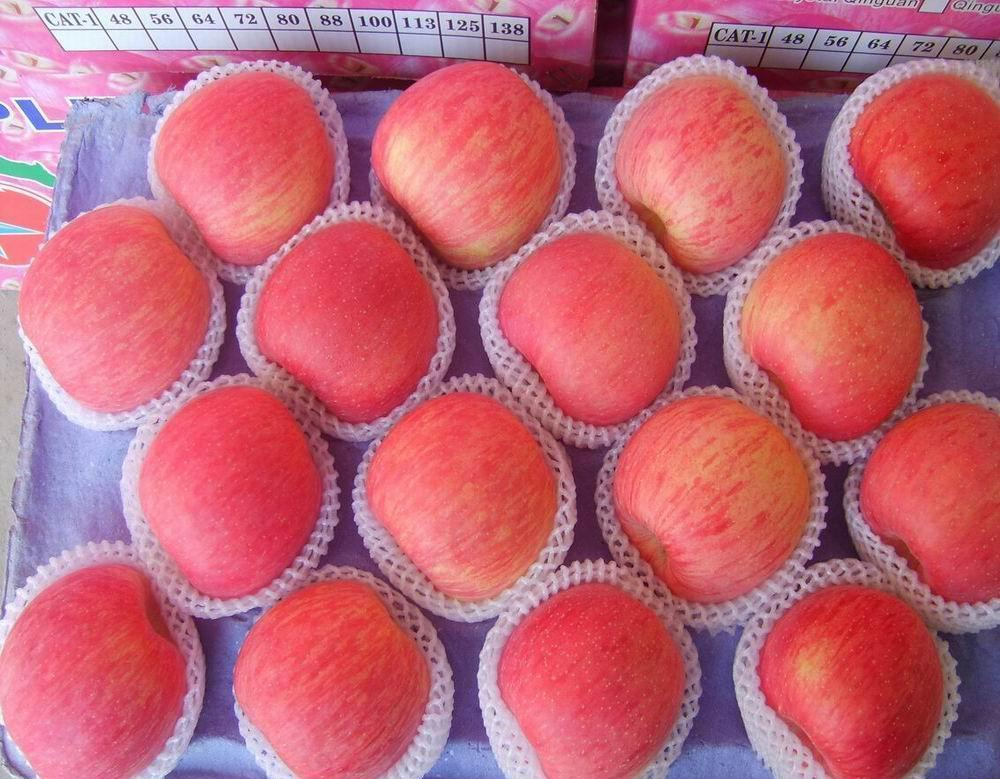apple: (366, 60, 572, 273), (733, 228, 929, 447), (1, 565, 206, 774), (603, 61, 794, 280), (136, 383, 323, 602), (620, 396, 812, 605), (366, 391, 558, 600), (236, 575, 431, 778), (490, 579, 685, 779), (21, 200, 208, 407), (250, 218, 436, 425), (754, 575, 943, 773), (498, 231, 678, 425), (157, 73, 334, 264), (845, 74, 997, 266), (858, 399, 998, 598)
